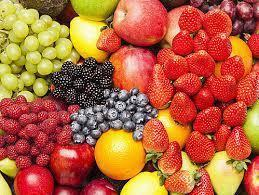lemon: (70, 16, 111, 63), (119, 170, 168, 195)
